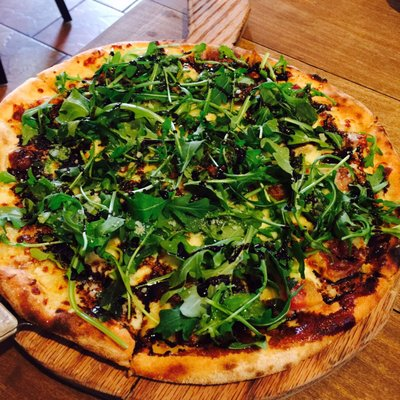curry: (3, 0, 399, 334)
sandwich: (0, 32, 400, 396)
